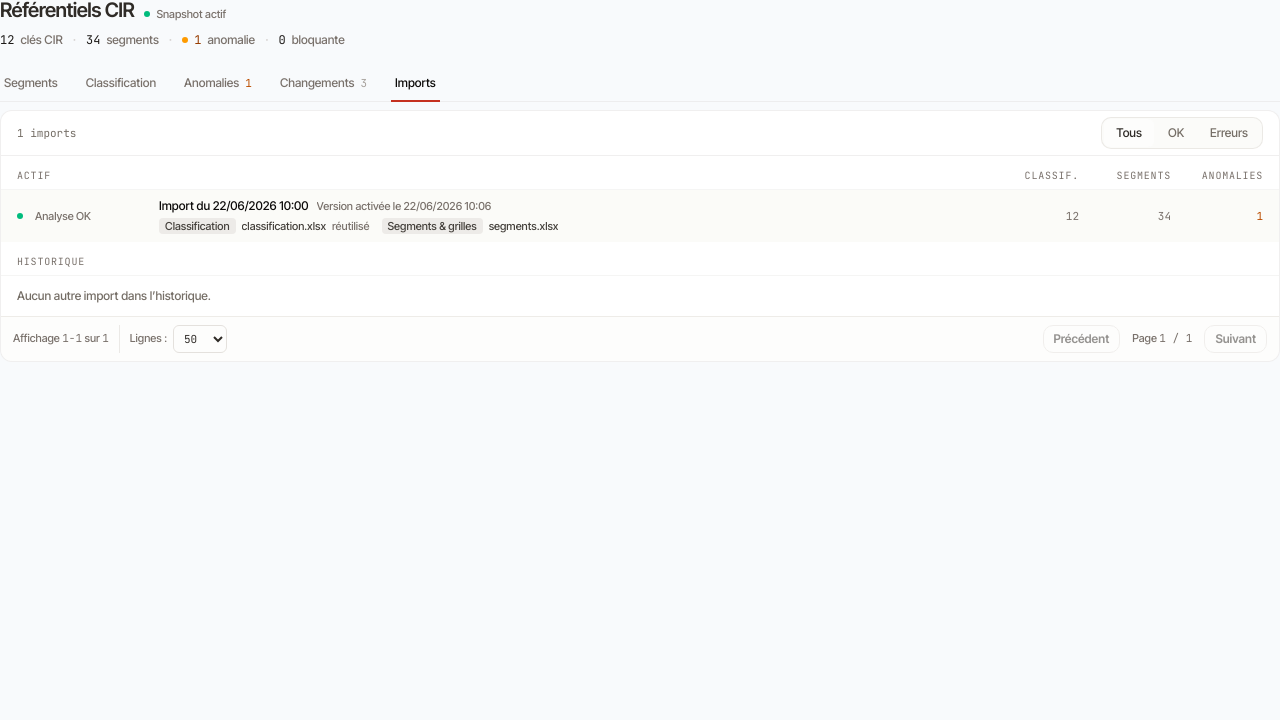
Scenario: PricingReferencesPage › opens the import detail dialog and scopes the workspace to the consulted import
Expected: the text "Snapshot actif" is shown, [144,6,226,22]
Click the button with aria-label "voir le détail de l'import du". click: [63, 216]
box: [1,190,1279,242]
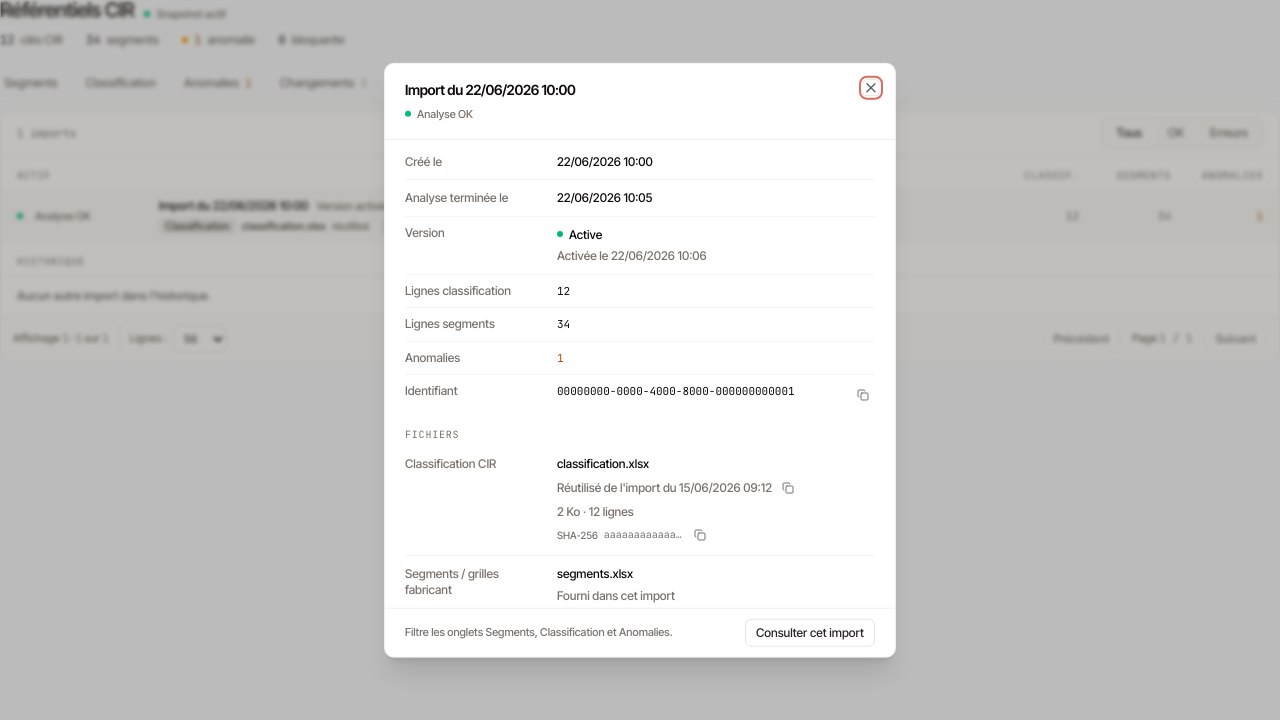
Result: the text "classification.xlsx" is shown at [557,456,649,471]
Result: the text "segments.xlsx" is shown at [557,566,633,581]
Result: the text "00000000-0000-4000-8000-000000000001" is shown at [557,383,795,399]
Click the button "Consulter cet import". click: [810, 632]
box: [745,618,875,646]
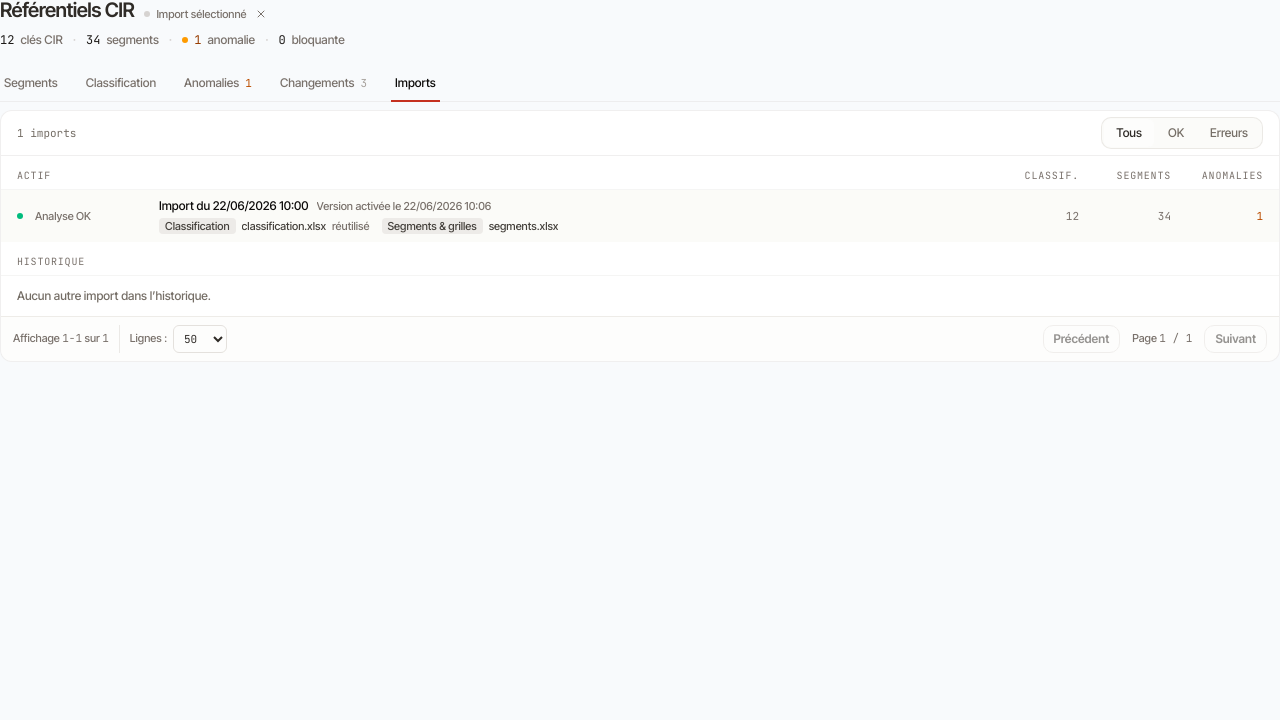
Result: the dialog is gone
Result: the text "Import sélectionné" is shown at [144,6,269,22]
Click the button named "revenir au snapshot actif". click: [260, 14]
box: [252,6,268,22]
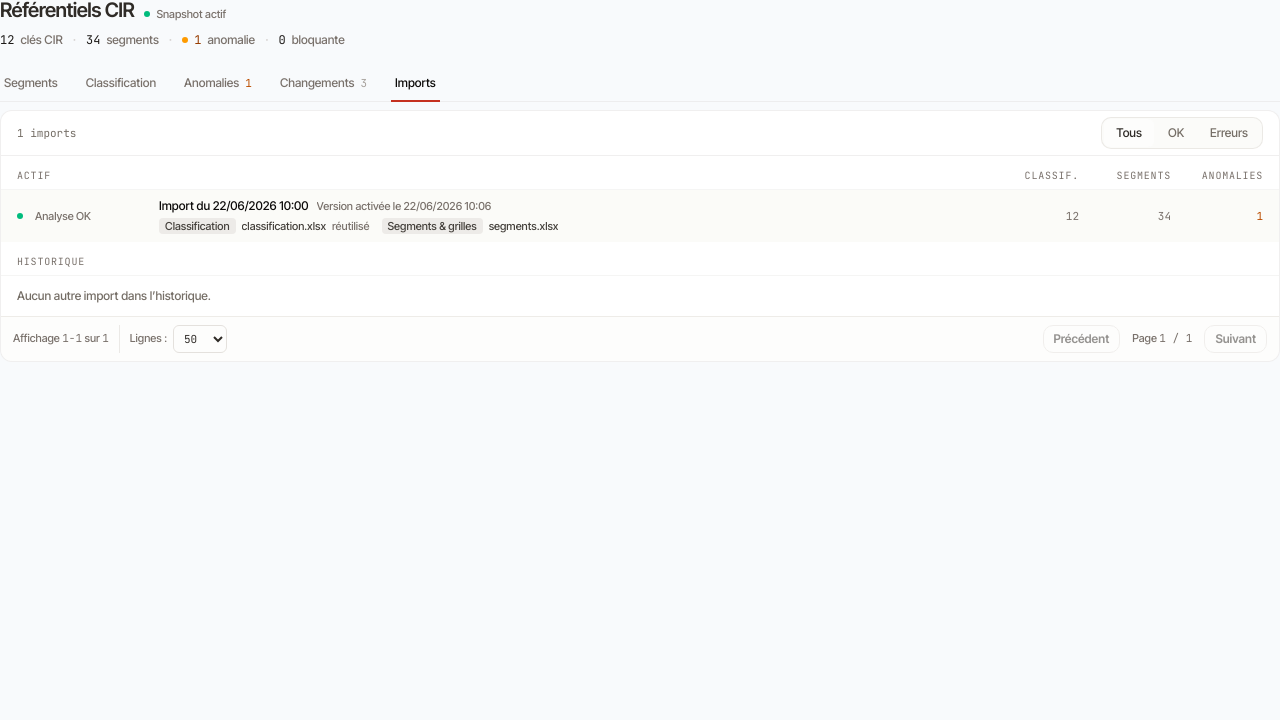
Result: the text "Snapshot actif" is shown at [144,6,226,22]
Result: the text "Import sélectionné" is gone
